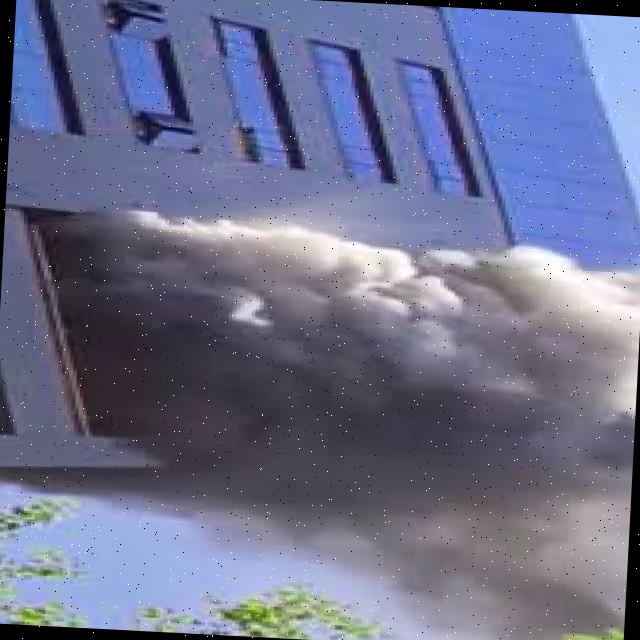explosion: (0, 191, 640, 640)
